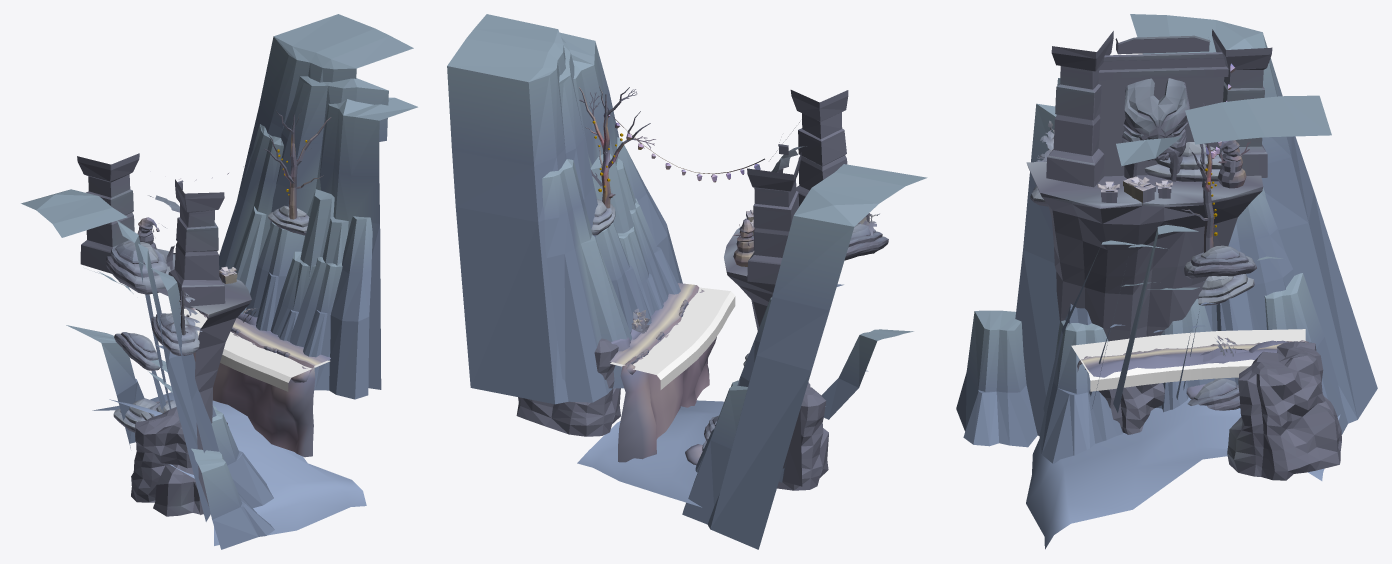
File: Arctic_Narrows_Left_Curve_Left_15_A.glb
3 views of the same model, side by side, from view 1: azimuth 30°, elevation 25°; view 2: azimuth 150°, elevation 25°; view 3: azimuth 270°, elevation 25° (orthographic). The views are drawn at different scales.
Parts seen in each view (by area): view 1: Arctic_Narrows_Left_IceWall_A01, Arctic_Narrows_Left_Curve_Left_15_A, Arctic_Narrows_Left_IceWall_A01_Right, Arctic_Narrows_Right_IceWall_A01, Arctic_Narrows_Right_IceWall_A01_Left, Arctic_Narrows_Left_IceWall_A01_Left, Arctic_Narrows_Arc_LPillar, Arctic_Narrows_Arc_RPillar, Arctic_Narrows_Arc_Base, Arctic_Narrows_Left_IceWall_A01_Mid, inv_fill, Arctic_Narrows_Big_Rock_A01 (+9 smaller); view 2: Arctic_Narrows_Left_IceWall_A01, Arctic_Narrows_Right_IceWall_A01, Arctic_Narrows_Left_Curve_Left_15_A, Arctic_Narrows_Left_IceWall_A01_Left, Arctic_Narrows_Left_IceWall_A01_Right, inv_fill, Arctic_Narrows_Arc_RPillar, Arctic_Narrows_Arc_LPillar, Arctic_Narrows_Right_IceWall_A01_Right, Arctic_Narrows_Big_Rock_A01 (1), Arctic_Narrows_Arc_Base, Arctic_Narrows_Left_IceWall_A01_Mid (+6 smaller); view 3: Arctic_Narrows_Right_IceWall_A01, Arctic_Narrows_Arc_Base, Arctic_Narrows_Left_Curve_Left_15_A, Arctic_Narrows_Right_IceWall_A01_Left, Arctic_Narrows_Arc_Backwall, Arctic_Narrows_Left_IceWall_A01, Arctic_Narrows_Right_IceWall_A01_Mid, Arctic_Narrows_Arc_LPillar, Arctic_Narrows_Big_Rock_A01_Mid (×2), inv_fill, Arctic_Narrows_Big_Rock_A01_Top, Arctic_Narrows_Big_Rock_A01 (1) (+13 smaller).
Part boxes in pixels (x1,y1,x2,y2): Arctic_Narrows_Left_IceWall_A01: (237, 14, 417, 389); Arctic_Narrows_Left_Curve_Left_15_A: (92, 308, 366, 545); Arctic_Narrows_Left_IceWall_A01_Right: (270, 216, 372, 399); Arctic_Narrows_Right_IceWall_A01: (21, 189, 219, 521); Arctic_Narrows_Right_IceWall_A01_Left: (191, 405, 274, 549); Arctic_Narrows_Left_IceWall_A01_Left: (219, 124, 283, 313); Arctic_Narrows_Arc_LPillar: (168, 179, 225, 308); Arctic_Narrows_Arc_RPillar: (77, 153, 139, 273); Arctic_Narrows_Arc_Base: (156, 248, 251, 514); Arctic_Narrows_Left_IceWall_A01_Mid: (245, 222, 304, 331); inv_fill: (171, 309, 330, 391); Arctic_Narrows_Big_Rock_A01: (131, 471, 203, 516); Arctic_Narrows_Left_IceWall_A01: (447, 14, 636, 404); Arctic_Narrows_Right_IceWall_A01: (707, 164, 927, 549); Arctic_Narrows_Left_Curve_Left_15_A: (577, 283, 825, 507); Arctic_Narrows_Left_IceWall_A01_Left: (542, 159, 631, 402); Arctic_Narrows_Left_IceWall_A01_Right: (617, 137, 682, 315); inv_fill: (610, 287, 735, 389); Arctic_Narrows_Arc_RPillar: (747, 152, 801, 284); Arctic_Narrows_Arc_LPillar: (790, 90, 848, 206); Arctic_Narrows_Right_IceWall_A01_Right: (682, 380, 747, 524); Arctic_Narrows_Big_Rock_A01 (1): (516, 388, 620, 436); Arctic_Narrows_Arc_Base: (724, 227, 802, 486); Arctic_Narrows_Left_IceWall_A01_Mid: (596, 222, 651, 332); Arctic_Narrows_Right_IceWall_A01: (1015, 14, 1377, 435); Arctic_Narrows_Arc_Base: (1026, 161, 1263, 341); Arctic_Narrows_Left_Curve_Left_15_A: (1026, 340, 1340, 549); Arctic_Narrows_Right_IceWall_A01_Left: (956, 310, 1122, 463); Arctic_Narrows_Arc_Backwall: (1098, 35, 1228, 176); Arctic_Narrows_Left_IceWall_A01: (1092, 95, 1331, 412); Arctic_Narrows_Right_IceWall_A01_Mid: (1156, 187, 1294, 412); Arctic_Narrows_Arc_LPillar: (1046, 31, 1113, 187); Arctic_Narrows_Big_Rock_A01_Mid (×2): (1105, 379, 1335, 450); inv_fill: (1071, 329, 1305, 391); Arctic_Narrows_Big_Rock_A01_Top: (1238, 341, 1323, 405); Arctic_Narrows_Big_Rock_A01 (1): (1227, 407, 1341, 480).
Size of the model in its own units: 25.09 by 24.49 by 19.85.
